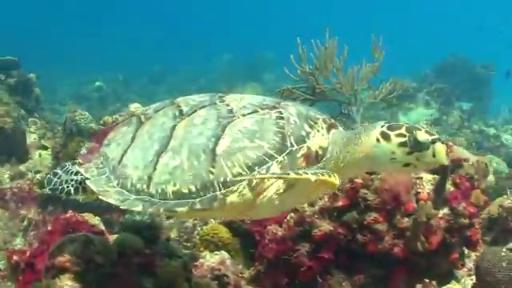Fish: (46, 94, 448, 218)
